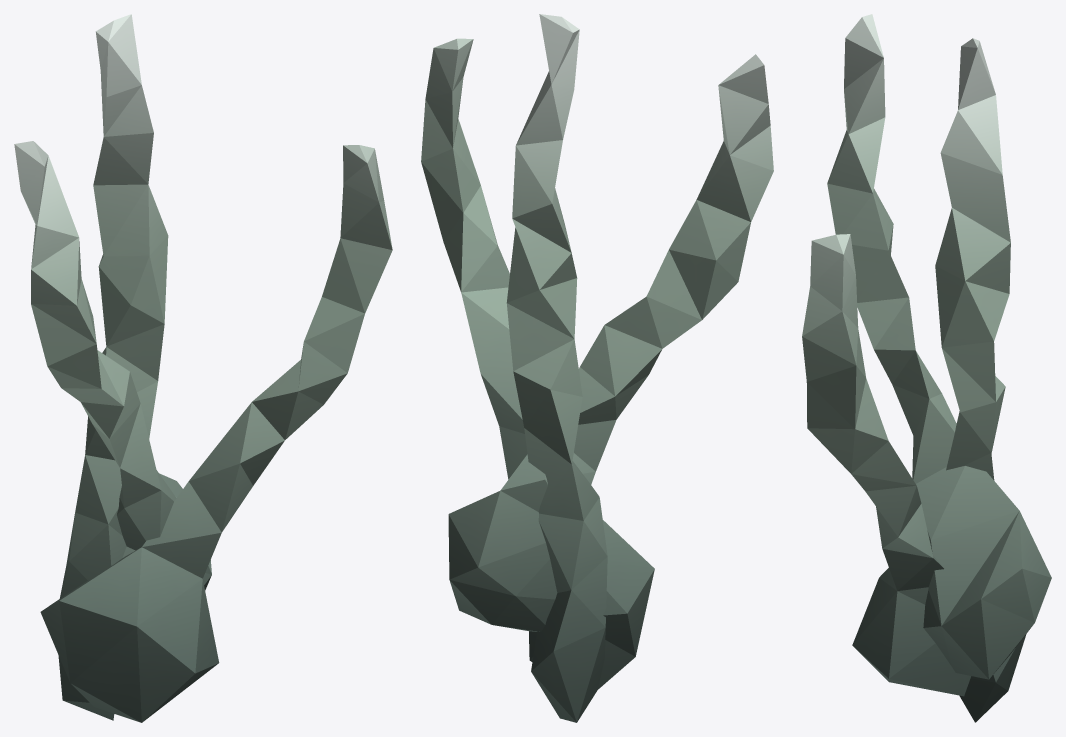
3 renders of one model, left to right at view 1: azimuth 30°, elevation 25°; view 2: azimuth 150°, elevation 25°; view 3: azimuth 270°, elevation 25°, orthographic. The views are drawn at different scales.
Visible parts, largest first — view 1: Base_04; view 2: Base_04; view 3: Base_04.
Part boxes in pixels (bbox=[...]): Base_04: bbox=[14, 14, 392, 722]; Base_04: bbox=[421, 14, 773, 722]; Base_04: bbox=[802, 14, 1051, 722].
Bounding box in the file's own units: 2.01 × 3.8 × 1.26.
